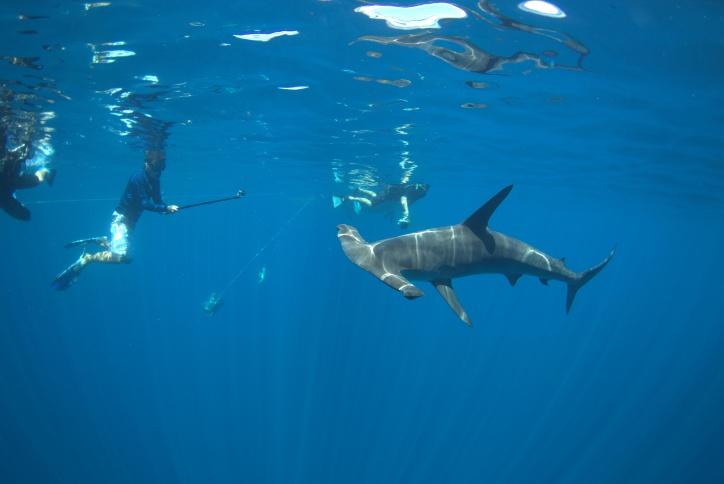Hammer: (326, 166, 634, 351)
